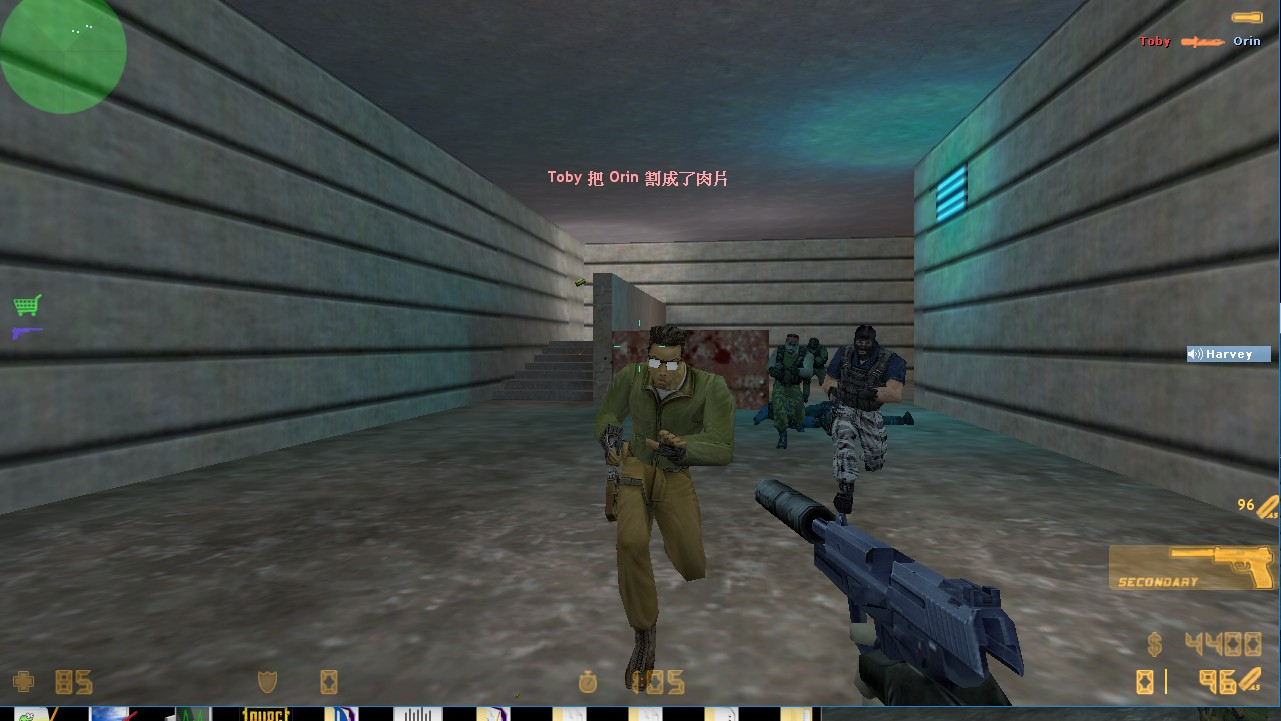person: (593, 319, 744, 699), (832, 320, 908, 527), (764, 331, 812, 453), (803, 334, 830, 397)
